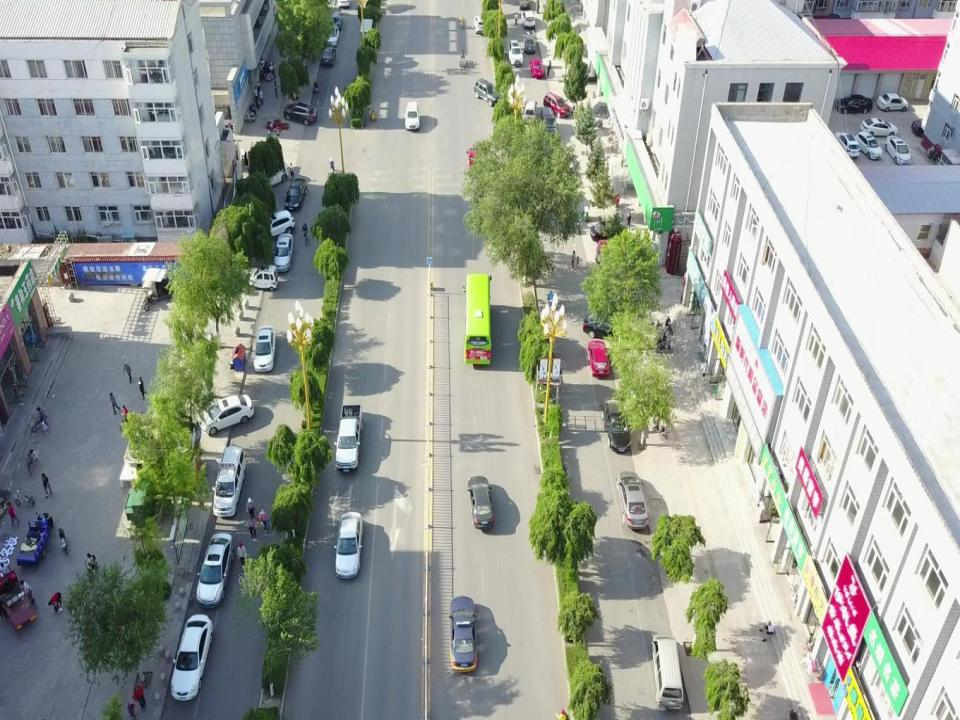bus: (462, 273, 492, 364)
car: (170, 614, 213, 701), (196, 532, 234, 608), (197, 394, 254, 436), (448, 594, 476, 672), (617, 470, 649, 530), (334, 511, 362, 578), (601, 395, 631, 453), (467, 474, 494, 529), (583, 310, 628, 340), (253, 326, 276, 371), (255, 159, 289, 189), (261, 210, 295, 238), (884, 134, 912, 165), (591, 220, 627, 244), (859, 117, 898, 139), (474, 76, 502, 106), (587, 339, 609, 377), (249, 263, 278, 291), (284, 101, 317, 125), (854, 131, 882, 159), (285, 177, 308, 211), (834, 94, 872, 114), (274, 233, 294, 271), (543, 91, 570, 118), (834, 131, 860, 158), (540, 106, 558, 144), (912, 117, 944, 137), (876, 92, 908, 111), (404, 102, 420, 130), (508, 39, 524, 66), (320, 46, 336, 67), (529, 58, 544, 78), (325, 25, 338, 47), (521, 10, 535, 30), (474, 15, 487, 36), (330, 11, 343, 31), (524, 34, 536, 54), (517, 0, 530, 12)
truck: (333, 405, 362, 473)
van: (652, 634, 683, 712), (213, 447, 246, 516), (523, 100, 538, 125)
